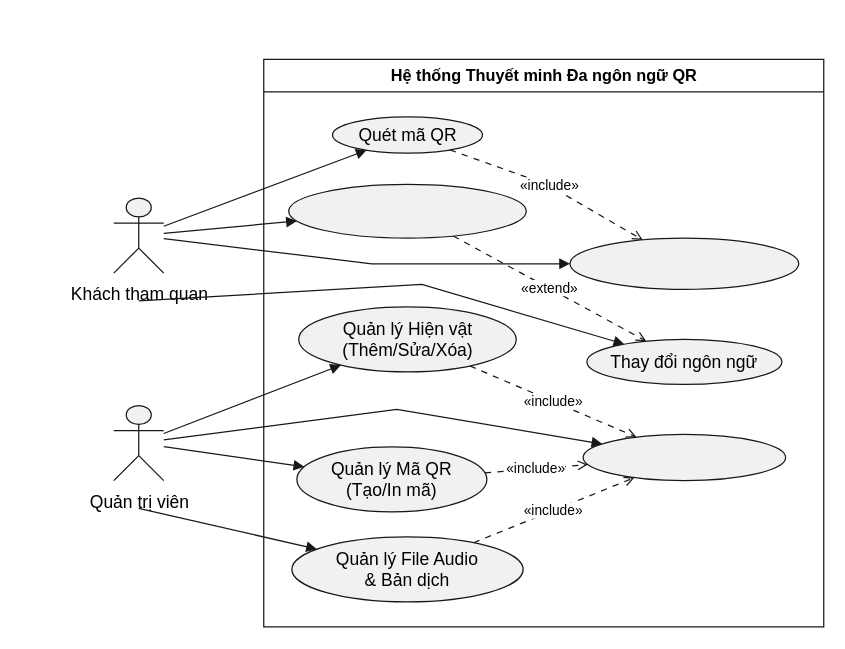
The diagram is 845 pixels wide and 649 high, and some of its shapes have lost their labels. The box of each missing label's shape, as (x1, y1, x2, y2) in pixels:
Nghe thuyết minh Audio: (288, 183, 526, 238)
Xem thông tin hiện vật: (569, 237, 799, 289)
Đăng nhập hệ thống: (582, 433, 786, 481)
